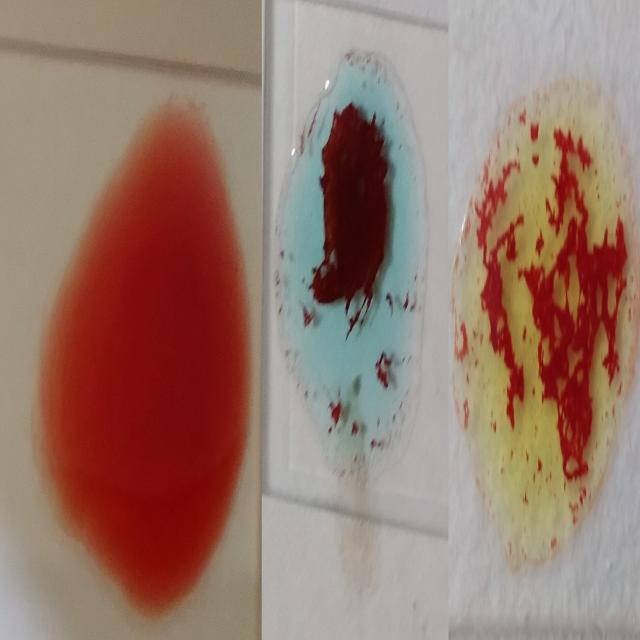A: (279, 44, 425, 476)
B: (456, 76, 637, 552)
